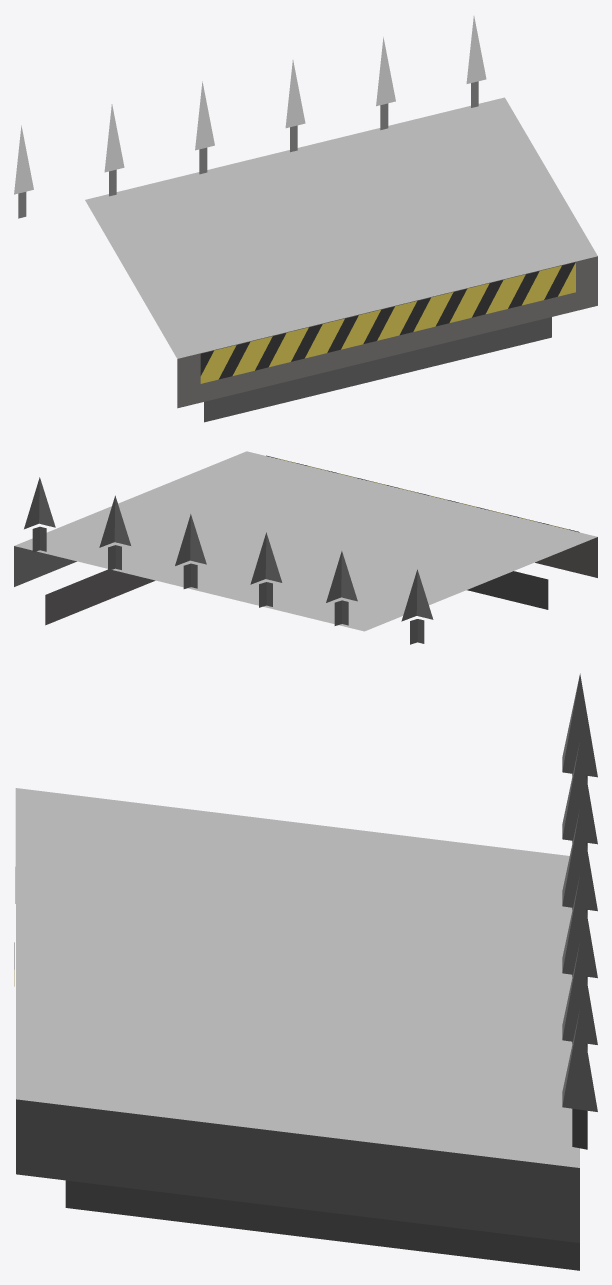
Rendered from Spike_Field_04.FBX.
3 renders of one model, top to bottom at view 1: azimuth 30°, elevation 25°; view 2: azimuth 150°, elevation 25°; view 3: azimuth 270°, elevation 25°, orthographic. The views are drawn at different scales.
Visible parts, largest first — view 1: Spike_Field_04; view 2: Spike_Field_04; view 3: Spike_Field_04.
Part boxes in pixels (x1,y1,x2,y2): Spike_Field_04: (14,16,597,422); Spike_Field_04: (14,451,597,644); Spike_Field_04: (14,673,597,1270).
Size of the model in its own units: 17.21 by 5.65 by 11.17.
